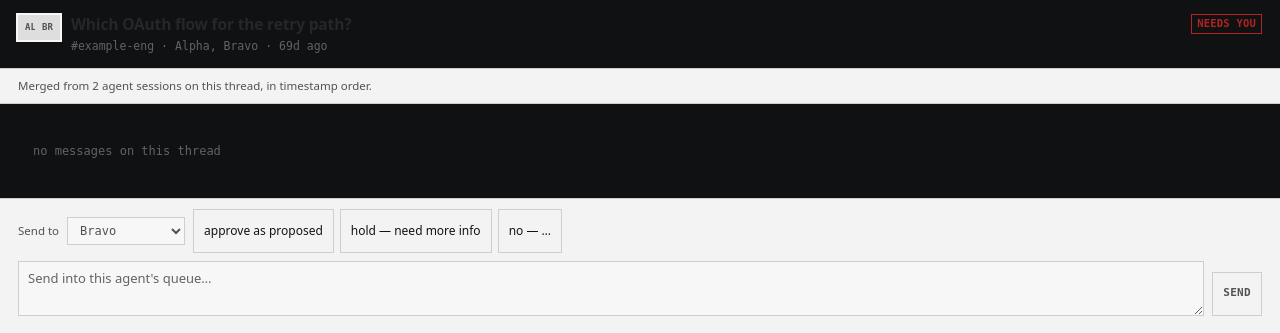
it: prefill chips set the box and nothing else › offers the three decision chips and never sends on tap
The width and height of the screenshot is (1280, 333).
Click the button "no — …" at (530, 231), box left=498, top=209, right=562, bottom=253
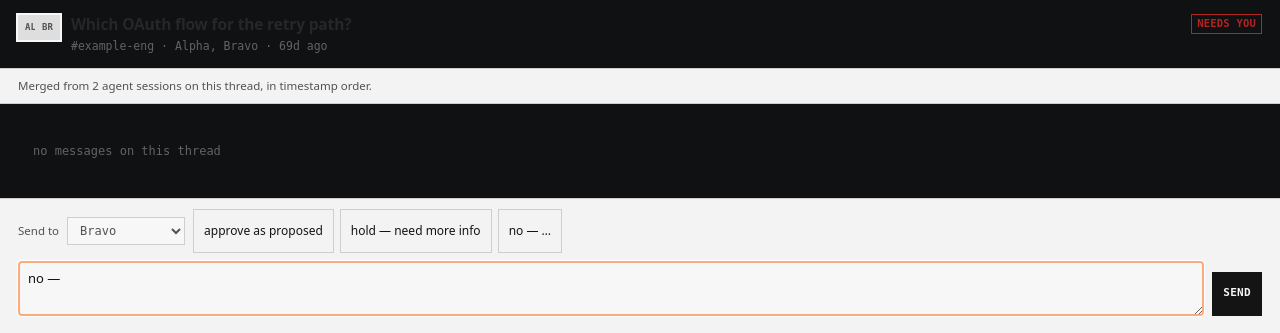
Now the text box named "Message text" holds "no — ", box left=18, top=261, right=1204, bottom=316
